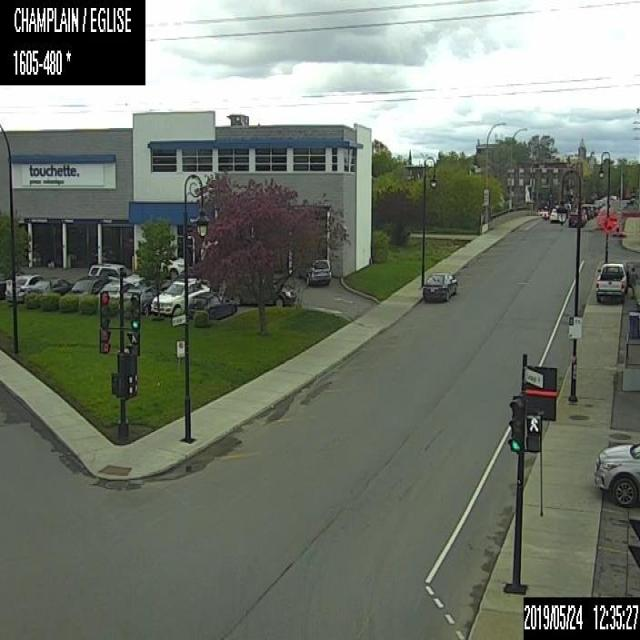construction: (601, 213, 614, 235)
pedestrian: (628, 266, 638, 298)
vehicle: (594, 442, 639, 508), (150, 276, 210, 314), (595, 257, 637, 300), (234, 282, 296, 306), (188, 291, 237, 319), (88, 261, 144, 285), (126, 284, 166, 314), (421, 270, 458, 302), (6, 272, 44, 303), (24, 276, 72, 298), (296, 257, 331, 284), (68, 274, 111, 294), (97, 279, 135, 297), (159, 254, 184, 278), (568, 207, 587, 227), (580, 202, 590, 220), (549, 207, 557, 222), (591, 203, 598, 215), (587, 204, 593, 218)
